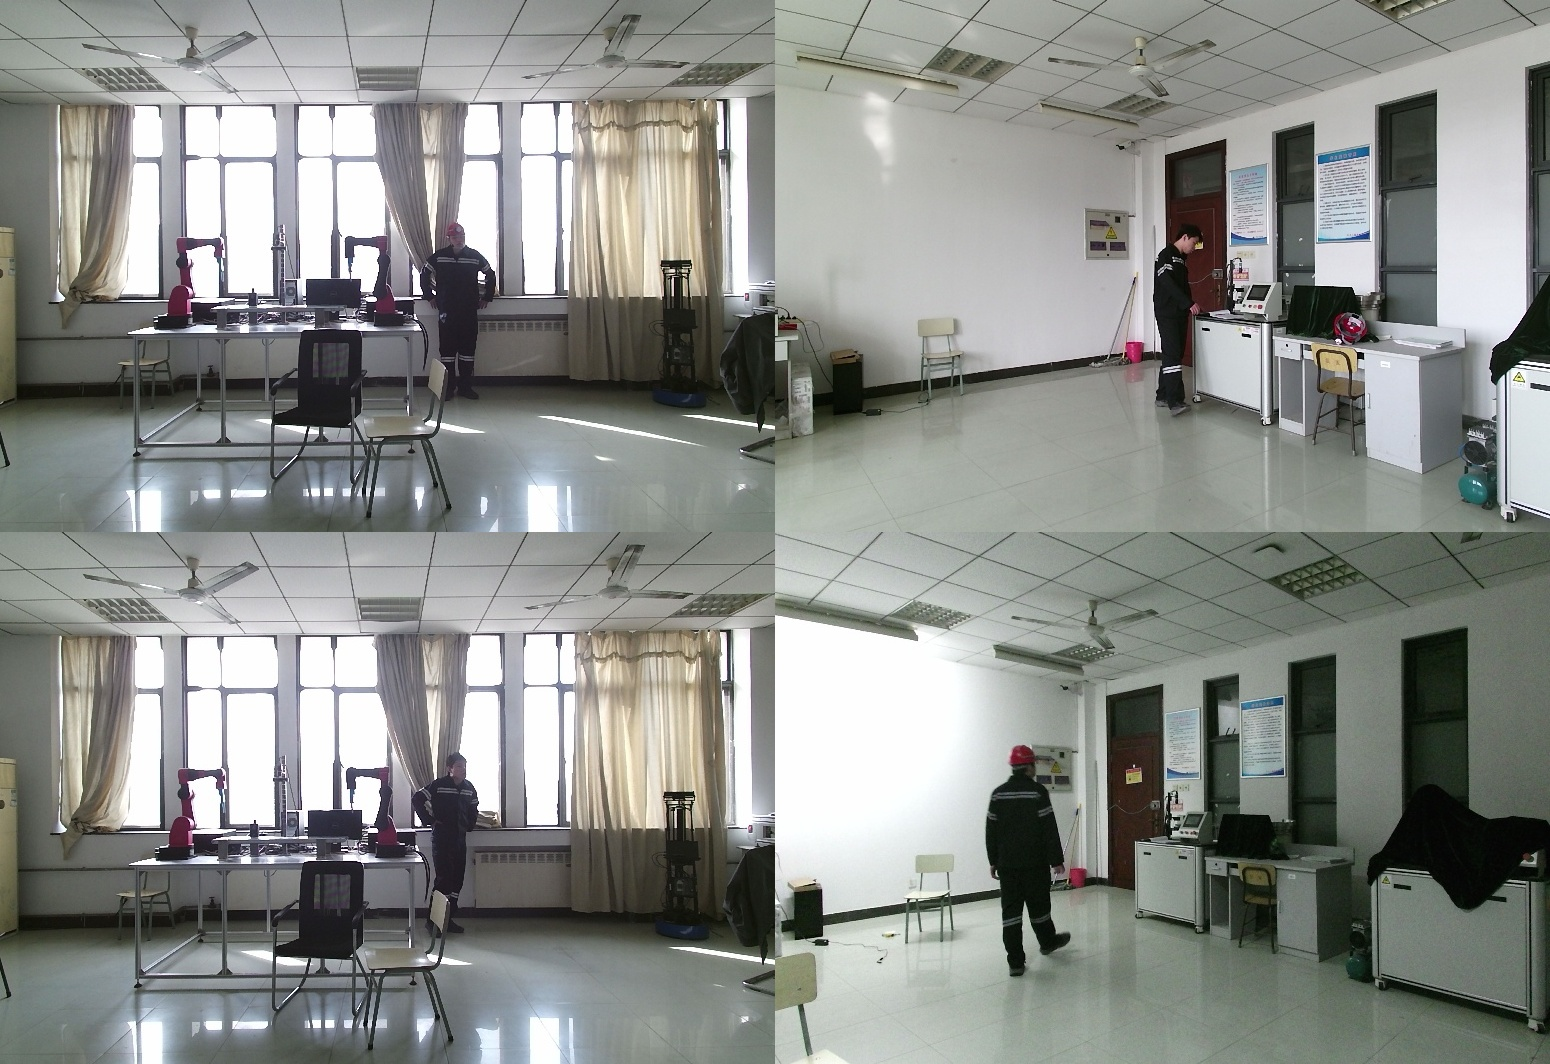person: (976, 744, 1073, 979), (420, 224, 499, 404), (413, 755, 479, 943), (1147, 230, 1211, 420)
